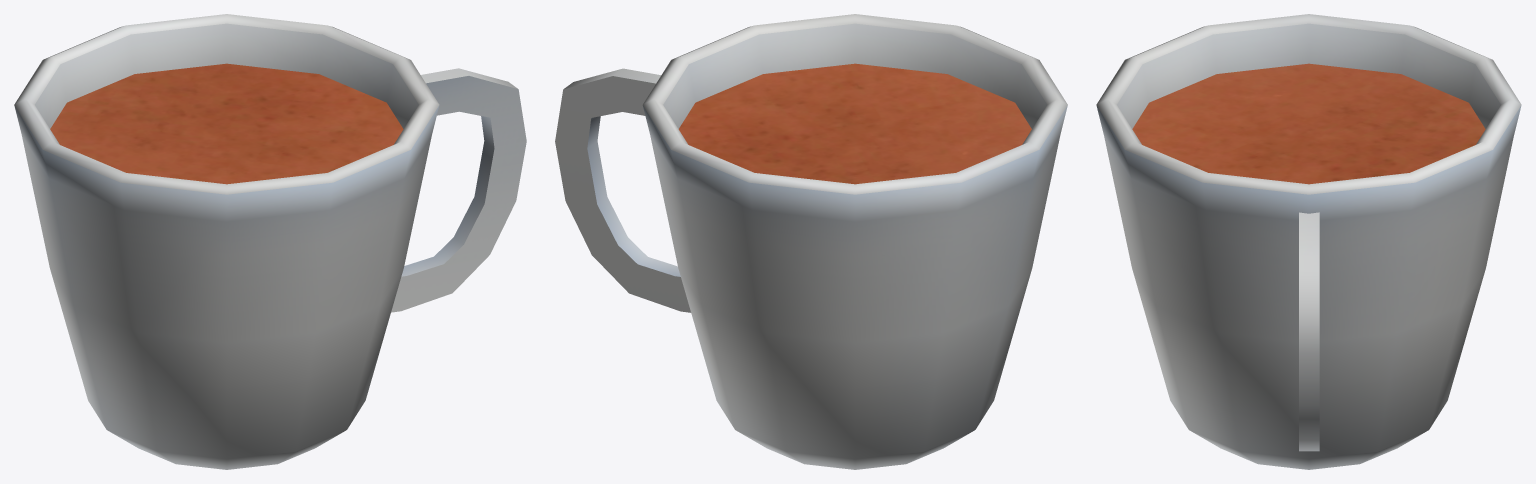
File: prop_foodmenu20b.fbx
3 views of the same model, side by side, from view 1: azimuth 30°, elevation 25°; view 2: azimuth 150°, elevation 25°; view 3: azimuth 270°, elevation 25° (orthographic).
Visible parts, largest first — view 1: prop_foodmenu20b; view 2: prop_foodmenu20b; view 3: prop_foodmenu20b.
Boxes of the visible parts, x1,y1,x2,y2 form: prop_foodmenu20b: (14,14,526,469); prop_foodmenu20b: (555,14,1067,469); prop_foodmenu20b: (1096,14,1521,469).
Size of the model in its own units: 0.1311 by 0.0857 by 0.1008.
